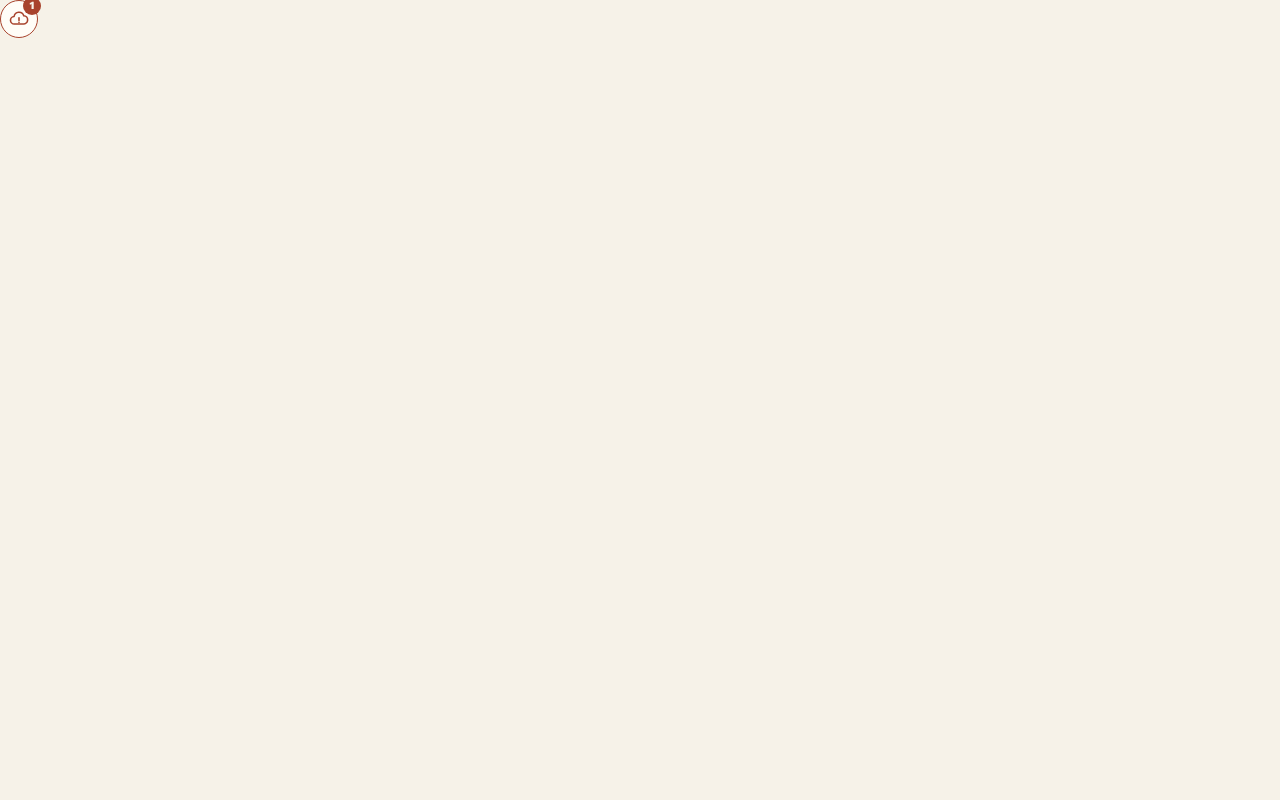
Test: CloudBadge › singular conflict button text and no device section without devices
Click the button named "Cloud-Abgleich": click(19, 19) [0,0,38,38]
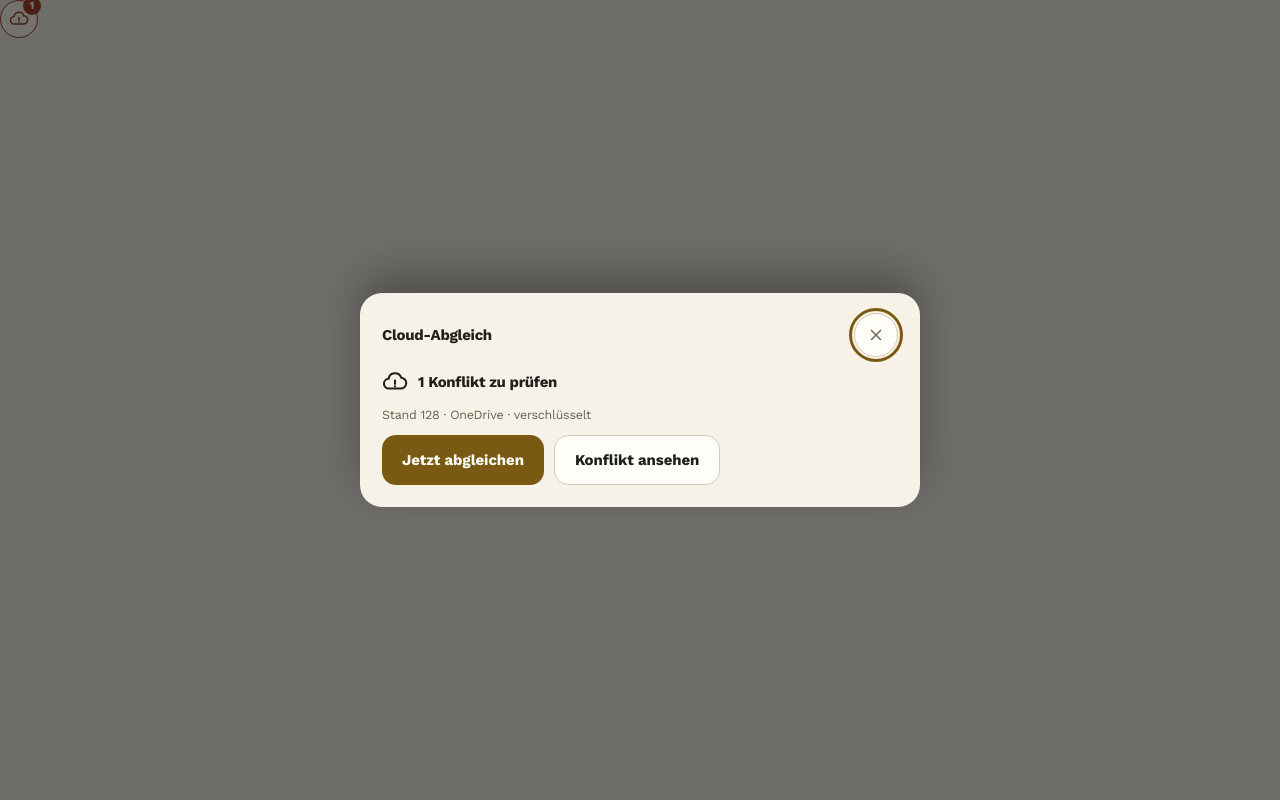
Result: the button "Konflikt ansehen" is shown at [554,435,720,485]
